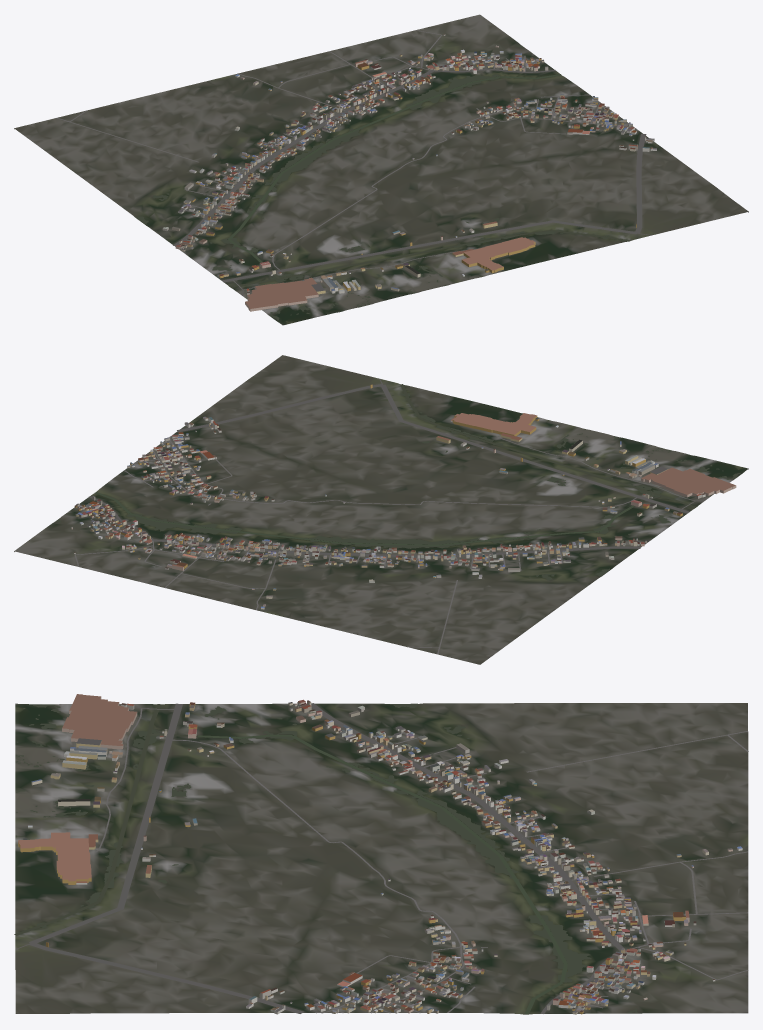
3 renders of one model, top to bottom at view 1: azimuth 30°, elevation 25°; view 2: azimuth 150°, elevation 25°; view 3: azimuth 270°, elevation 25°, orthographic. The views are drawn at different scales.
Visible parts, largest first — view 1: ground, buildings, roads, water; view 2: ground, buildings, roads, water; view 3: ground, buildings, roads, water.
Part boxes in pixels (left/top/right/bottom): ground: left=14, top=14, right=748, bottom=324; buildings: left=162, top=34, right=656, bottom=311; roads: left=56, top=30, right=651, bottom=325; water: left=136, top=44, right=630, bottom=321; ground: left=14, top=355, right=748, bottom=664; buildings: left=71, top=384, right=736, bottom=609; roads: left=74, top=378, right=748, bottom=654; water: left=55, top=384, right=740, bottom=580; ground: left=15, top=703, right=748, bottom=1014; buildings: left=18, top=694, right=742, bottom=1014; roads: left=15, top=703, right=748, bottom=1013; water: left=14, top=703, right=637, bottom=1014.
Bounding box in the file's own units: 1439 × 21.38 × 1406.
